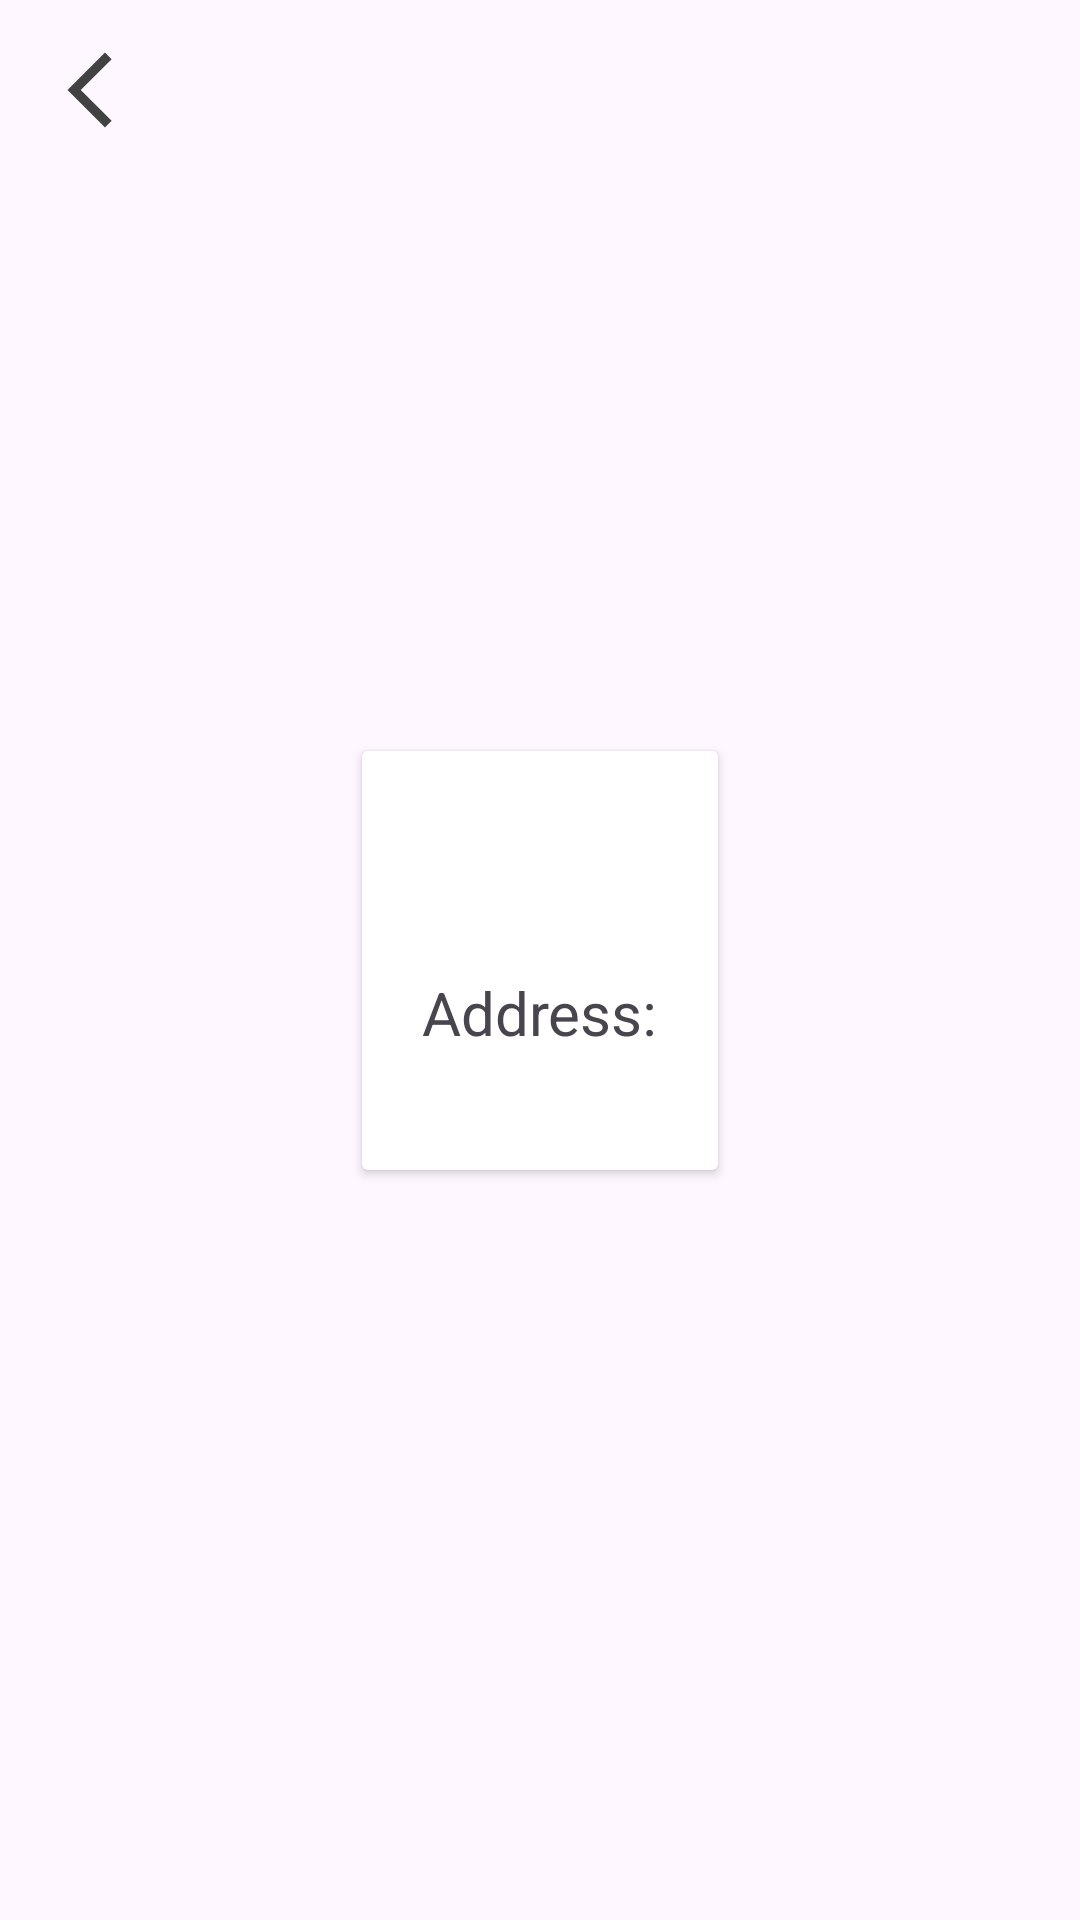

Icon click points for this 1080×1920 phone screenshot, format [x,y]:
back: [90,90]
